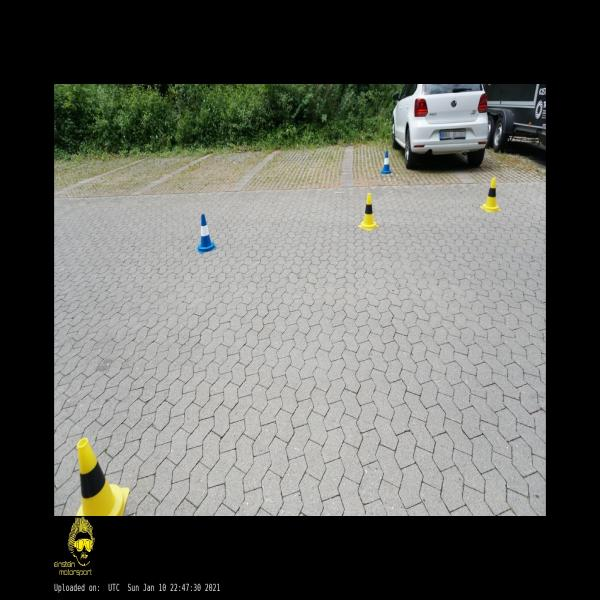blue_cone: (196, 214, 215, 252), (381, 152, 391, 173)
yellow_cone: (76, 438, 130, 516), (358, 193, 378, 230), (480, 178, 500, 211)
